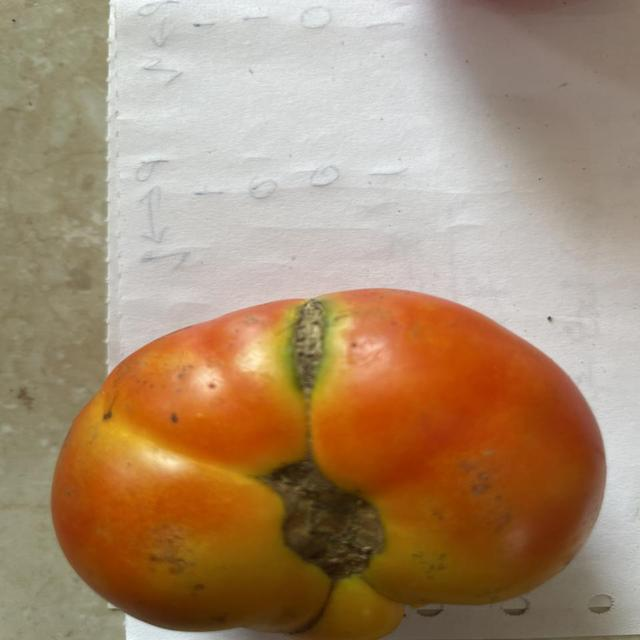Cracking Fruit: (187, 204, 224, 259)
